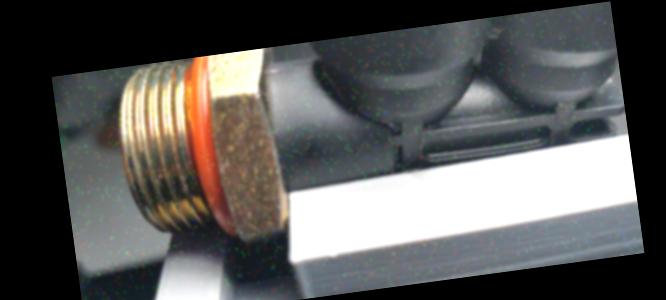joint line: (289, 63, 314, 76)
white mark: (257, 63, 286, 78)
